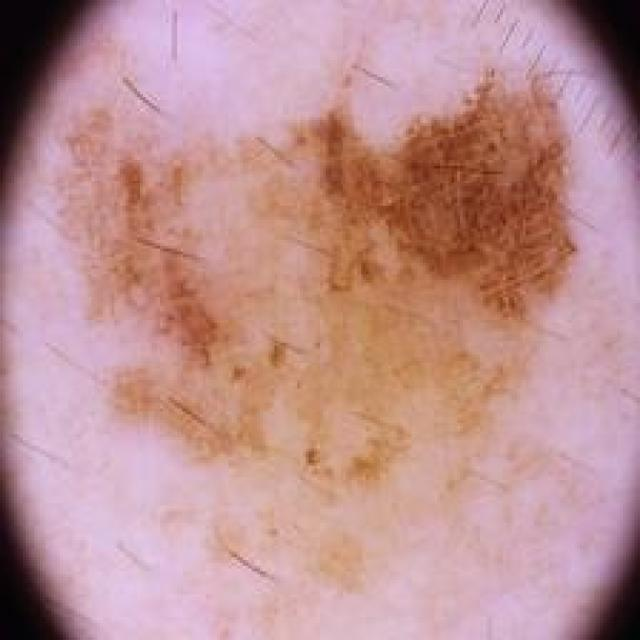Cancer: (54, 74, 573, 538)
